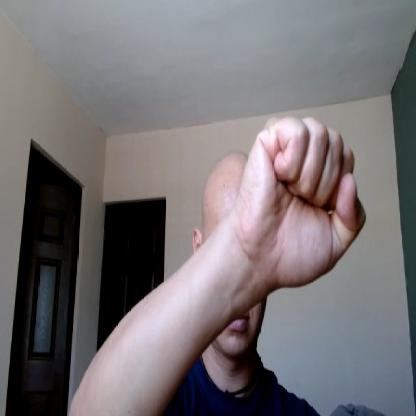S: (240, 115, 368, 293)
